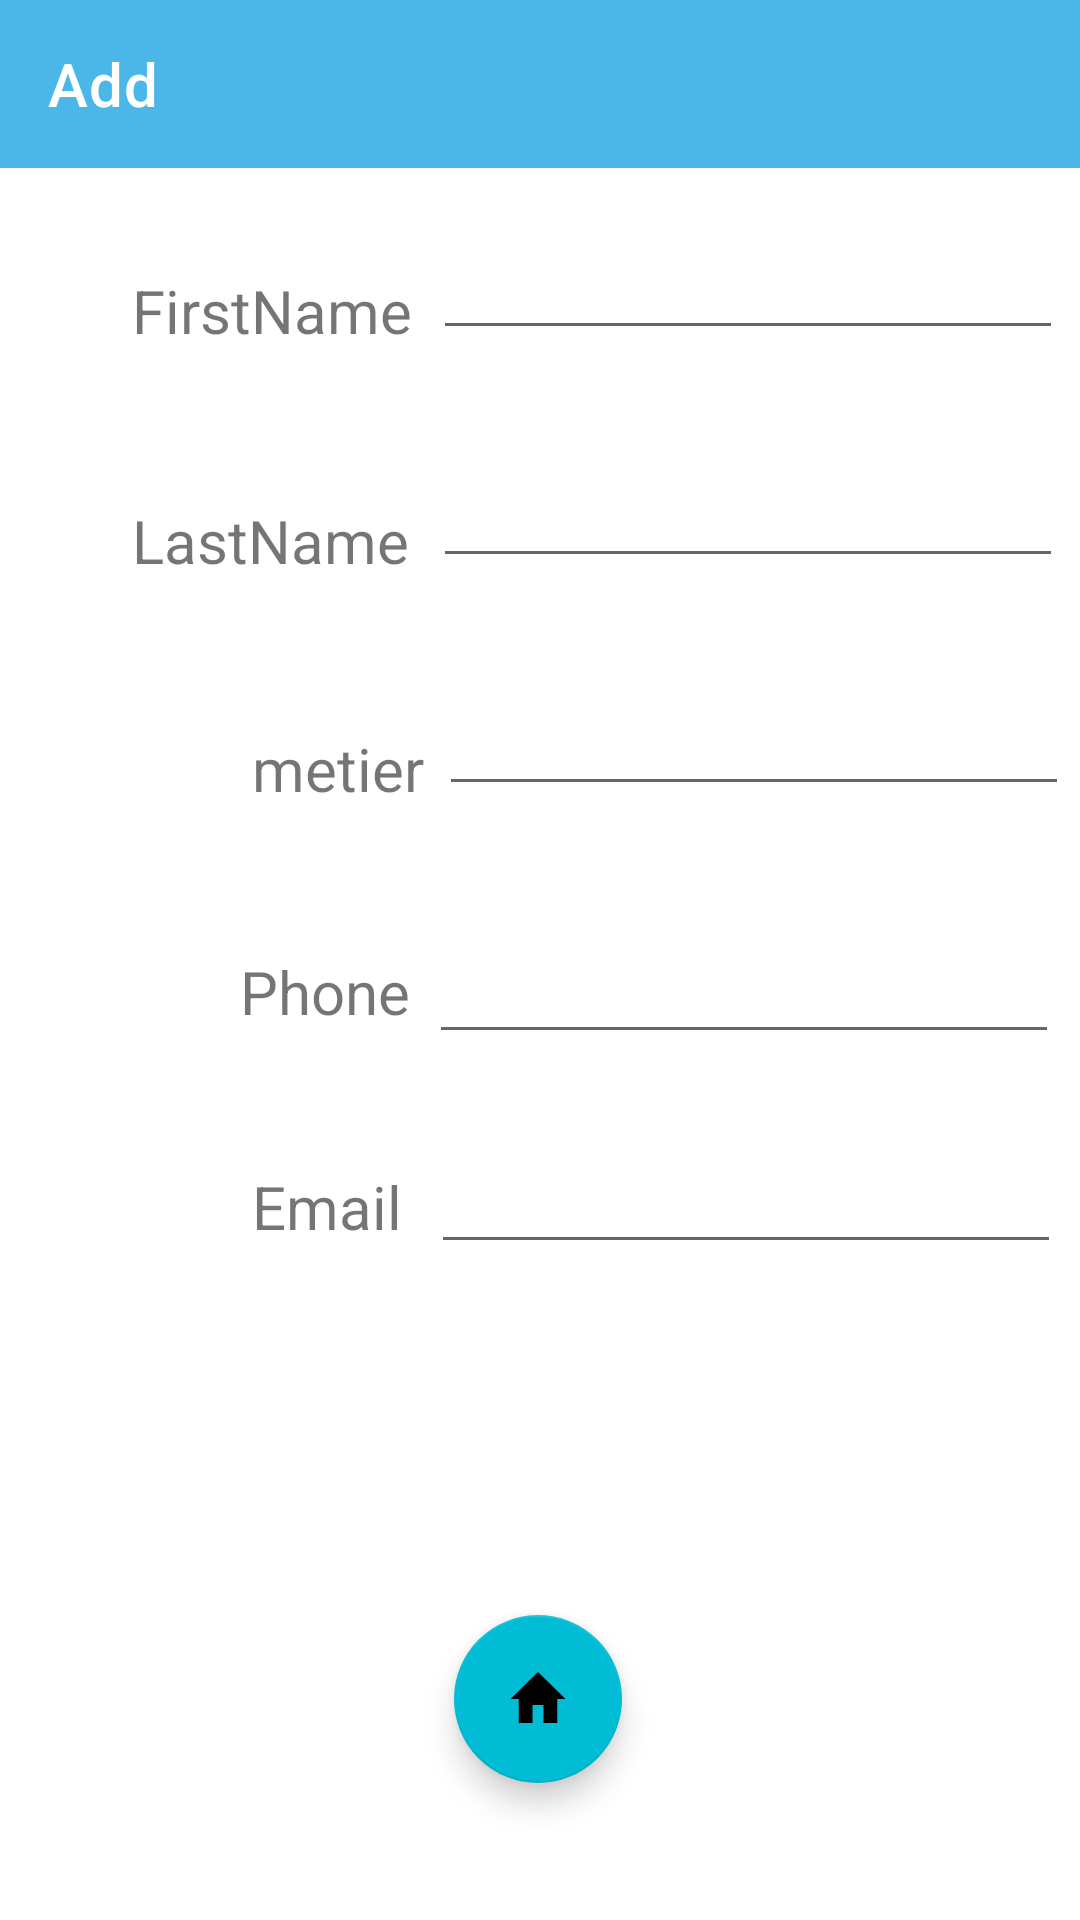

Icons on this 1080px×1920px Android screen, each with its box as bbox(x1, y1, x2, y2):
home: bbox(454, 1615, 622, 1783)
